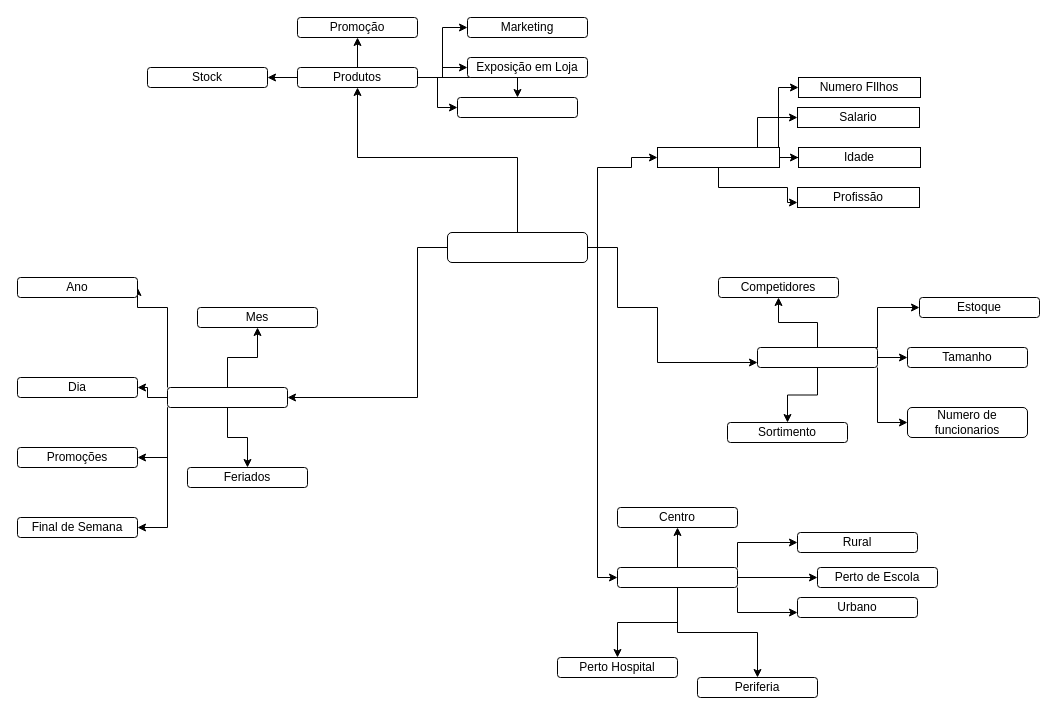
Some shapes in this 1057 by 715 pixel diagram are drawn without their labels. The shapes that lost their labels are listed below. From the top down, each one's centre as x and y in pixels, then its label:
point 517,107: Preço
point 718,157: Clientes
point 517,247: DAILY STORE SALES
point 817,357: Lojas
point 227,397: Sazional
point 677,577: Localização
